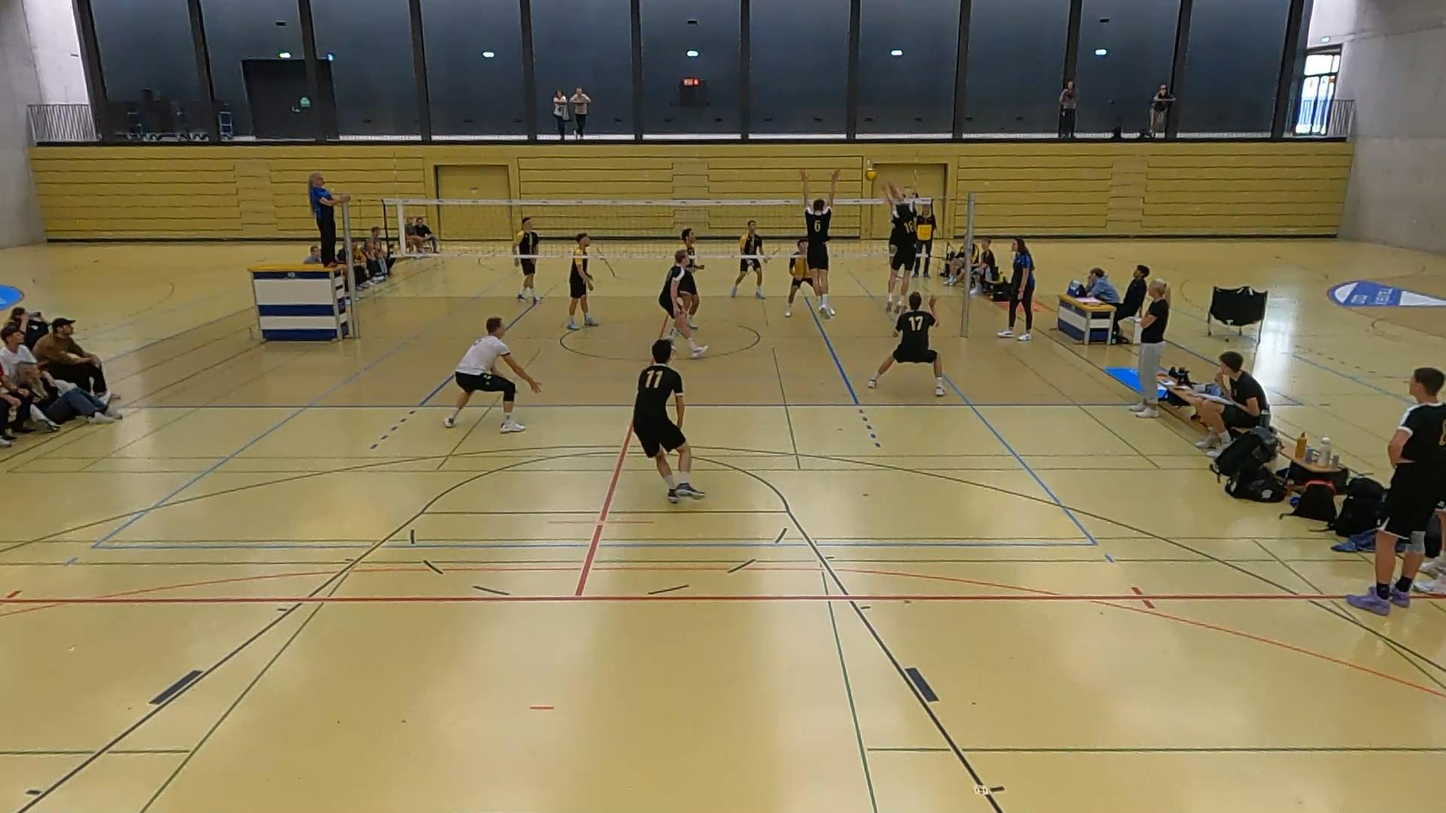Block: (870, 179, 929, 318), (792, 174, 842, 324)
Player: (1346, 367, 1445, 615), (633, 339, 703, 502), (444, 317, 541, 433), (868, 291, 944, 396), (659, 248, 707, 358), (566, 233, 597, 330), (730, 220, 765, 299), (784, 239, 817, 317), (681, 228, 703, 329), (514, 217, 538, 303)
ball: (861, 164, 876, 182)
